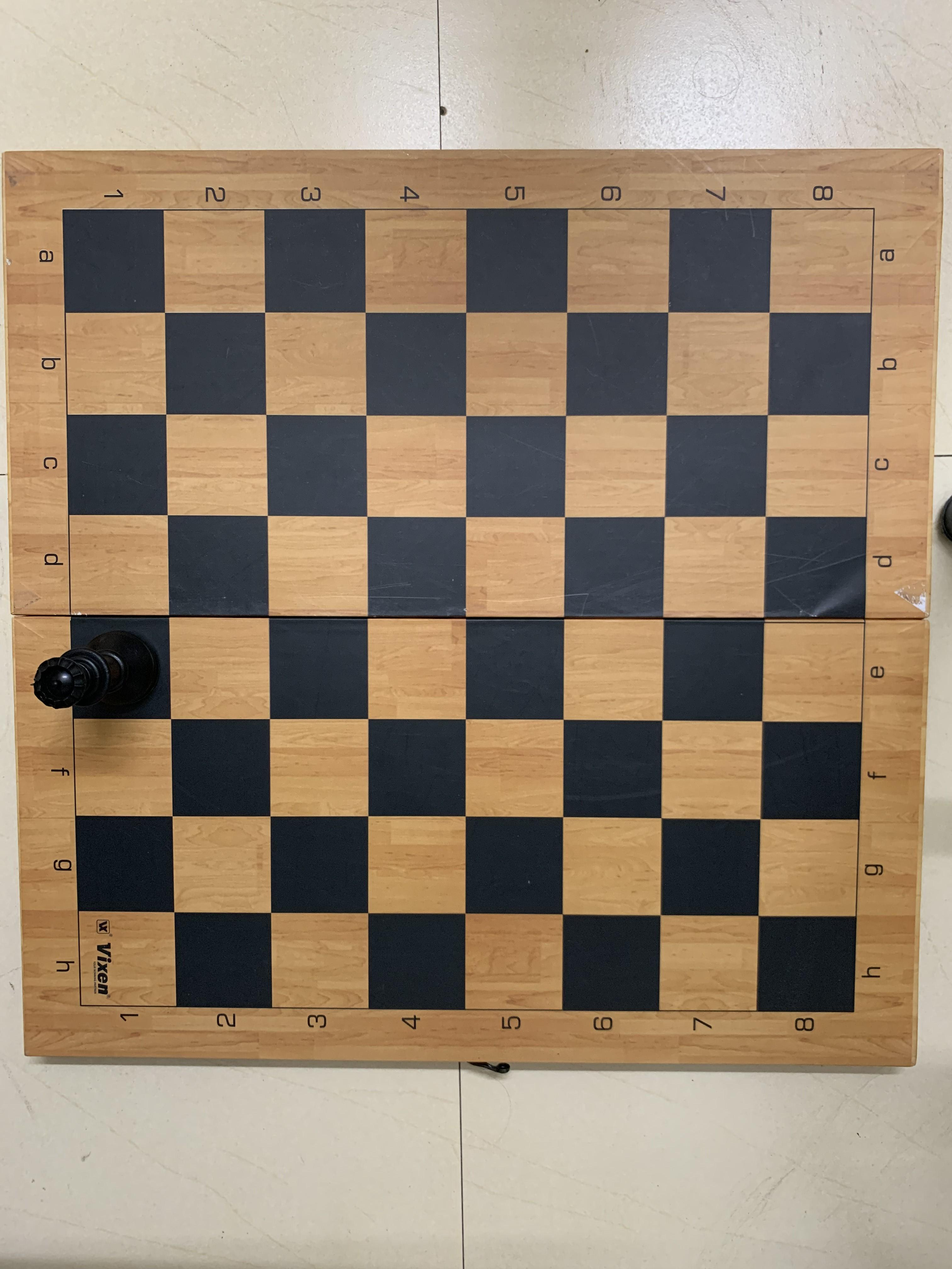black_queen: (31, 616, 172, 725)
